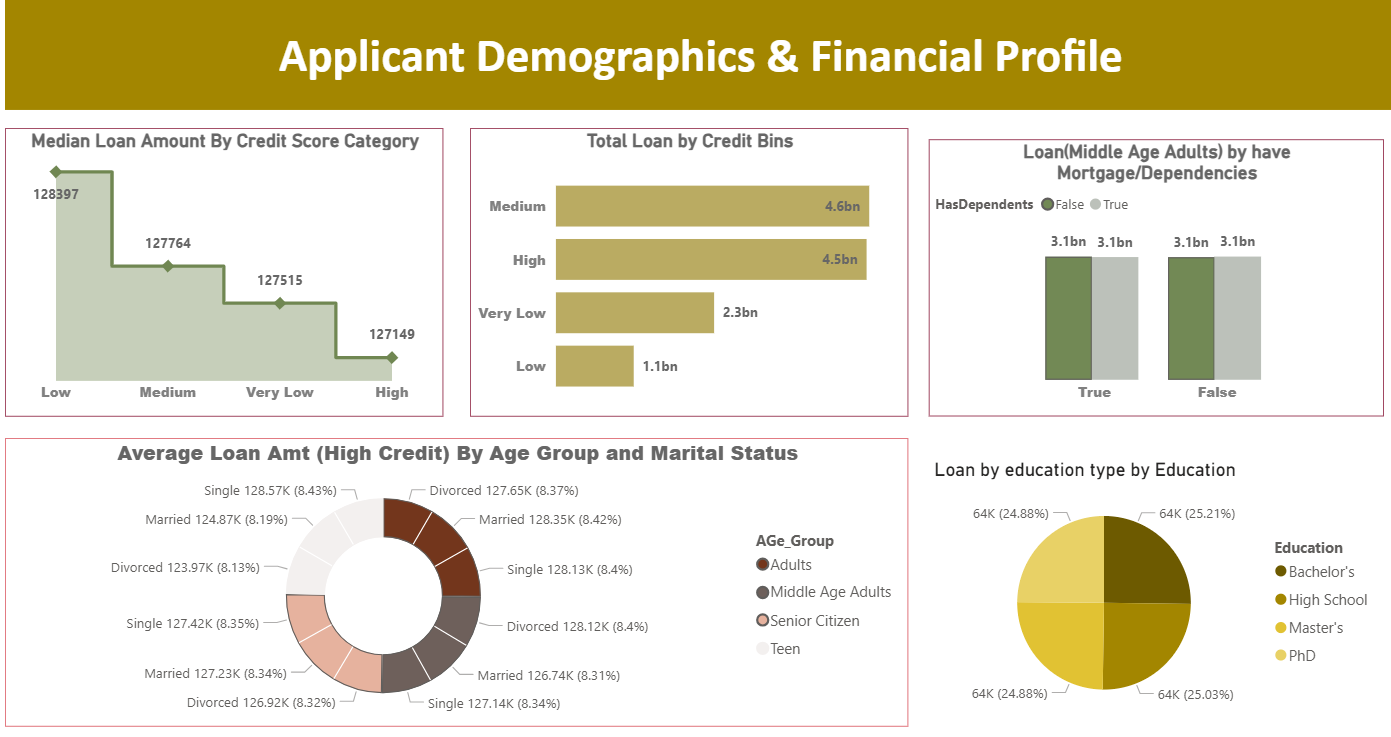

This screenshot's page, from the dashboard's own definition file:
{"tool":"powerbi","page":{"name":"Applicant Demographic and Financial Profile","canvas":[1280,720],"ordinal":1},"visuals":[{"type":"shape","box":[13.7,9.6,1257,100.2],"z":0},{"type":"lineChart","title":"Median Loan Amount By Credit Score Category","fields":{"Y":["_Measure 2.Median by Credit Score bins"],"Category":["Loan+Dataset+Link.Credit Score Bins"]},"box":[13.5,126.5,396.3,260.8],"z":1000},{"type":"donutChart","title":"Average Loan Amt (High Credit) By Age Group and Marital Status ","fields":{"Y":["_Measure 2.Average Loan amt (High Credit)"],"Category":["Loan+Dataset+Link.AGe_Group"],"Series":["Loan+Dataset+Link.MaritalStatus"]},"box":[13.5,406.5,816.4,260.8],"z":2000},{"type":"barChart","title":"Total Loan by Credit Bins","fields":{"Category":["Loan+Dataset+Link.Credit Score Bins"],"Y":["_Measure 2.Total Loan Credit Bins"]},"box":[433.6,126.5,396.3,260.8],"z":3000},{"type":"clusteredColumnChart","title":" Loan(Middle Age Adults) by have Mortgage/Dependencies","fields":{"Category":["Loan+Dataset+Link.HasMortgage"],"Y":["_Measure 2.Loan Amount (Middle Age Adults)"],"Series":["Loan+Dataset+Link.HasDependents"]},"box":[848,136.6,411,250.7],"z":4000},{"type":"pieChart","fields":{"Category":["Loan+Dataset+Link.Education"],"Y":["_Measure 2.Loan by education type"]},"box":[848,424.6,411,242.8],"z":5000}]}

Visuals, with their boxes on the page's 1280x720 design canvas (x1, y1, x2, y2). These are canvas units, not pixel positions in the 1391x737 screenshot, which may show the page scaled, cropped or inside an application window:
shape: (x1=14, y1=10, x2=1271, y2=110)
"Median Loan Amount By Credit Score Category" lineChart: (x1=14, y1=126, x2=410, y2=387)
"Average Loan Amt (High Credit) By Age Group and Marital Status " donutChart: (x1=14, y1=406, x2=830, y2=667)
"Total Loan by Credit Bins" barChart: (x1=434, y1=126, x2=830, y2=387)
" Loan(Middle Age Adults) by have Mortgage/Dependencies" clusteredColumnChart: (x1=848, y1=137, x2=1259, y2=387)
pieChart - Loan+Dataset+Link.Education x _Measure 2.Loan by education type: (x1=848, y1=425, x2=1259, y2=667)
